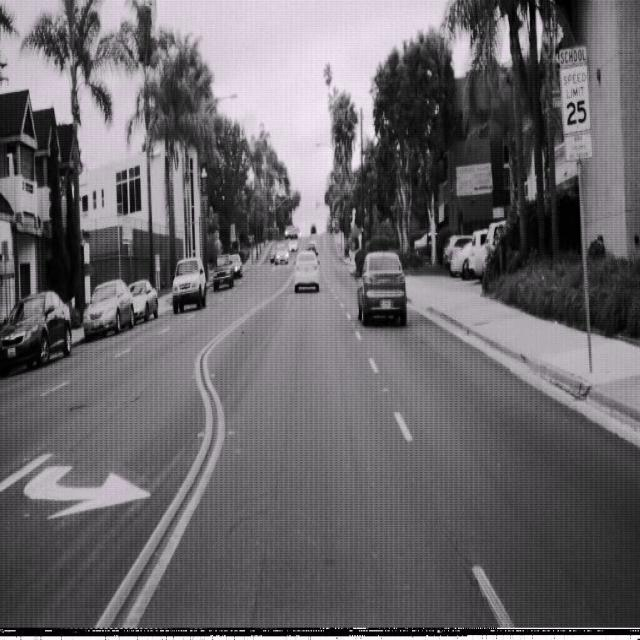speedLimit25: (558, 44, 592, 162)
